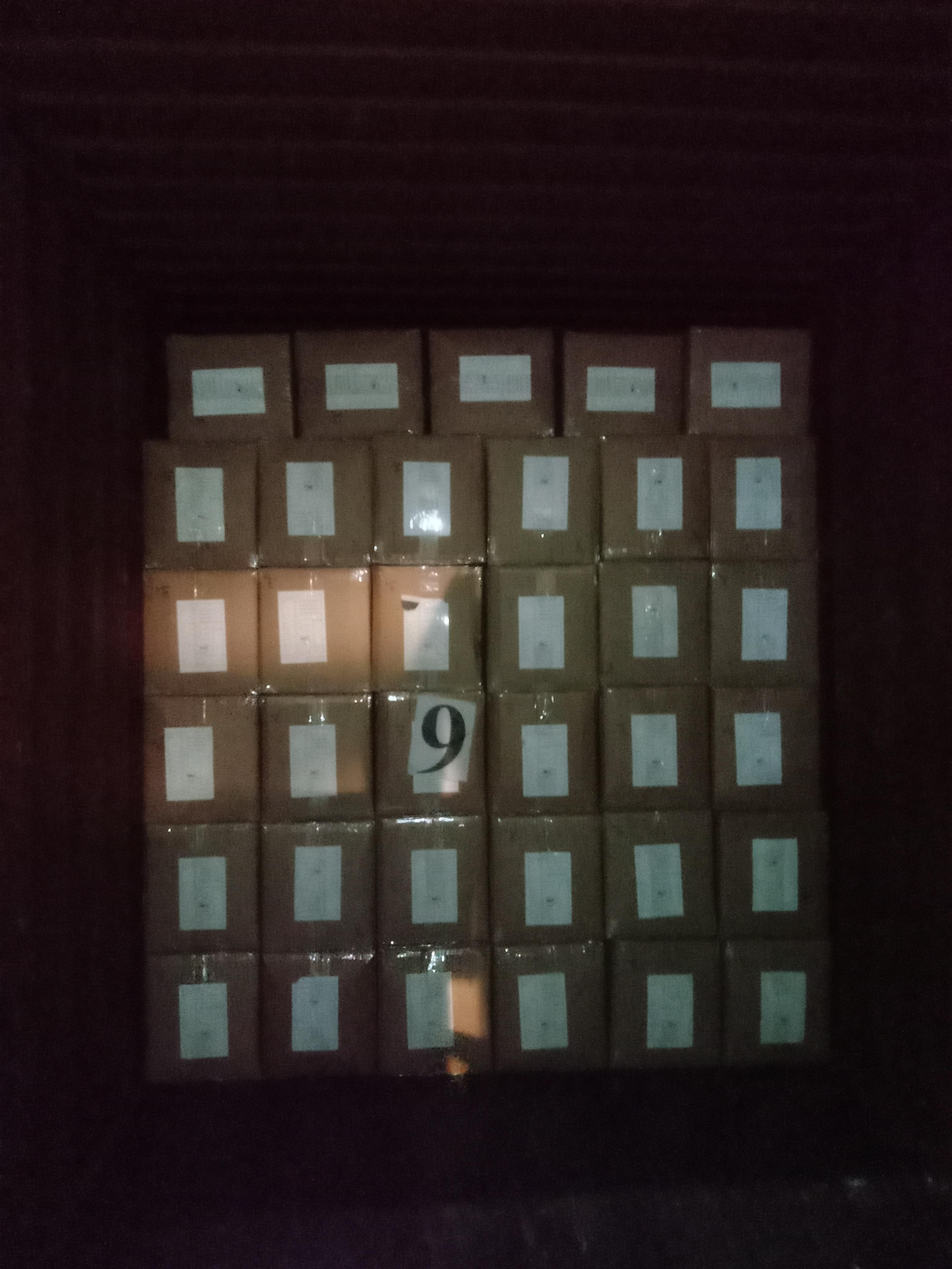carton: (139, 440, 258, 570), (146, 949, 261, 1082), (370, 434, 485, 566), (255, 566, 371, 694), (492, 939, 605, 1070), (144, 825, 259, 952), (257, 442, 370, 569), (258, 819, 370, 947), (485, 436, 597, 564), (609, 939, 719, 1069), (259, 951, 372, 1077), (601, 811, 713, 938), (718, 809, 828, 938), (374, 687, 487, 812), (144, 696, 257, 821), (491, 814, 602, 941), (144, 570, 257, 694), (372, 564, 481, 692), (259, 693, 371, 817), (489, 565, 599, 691), (375, 818, 482, 947), (598, 563, 711, 685), (705, 435, 815, 560), (487, 691, 596, 817), (598, 436, 707, 562), (375, 947, 482, 1075), (298, 326, 423, 435), (686, 324, 809, 433), (164, 333, 288, 441), (709, 562, 816, 687), (427, 325, 550, 433), (598, 686, 709, 805), (710, 685, 819, 806), (722, 941, 828, 1063), (565, 330, 684, 434)
